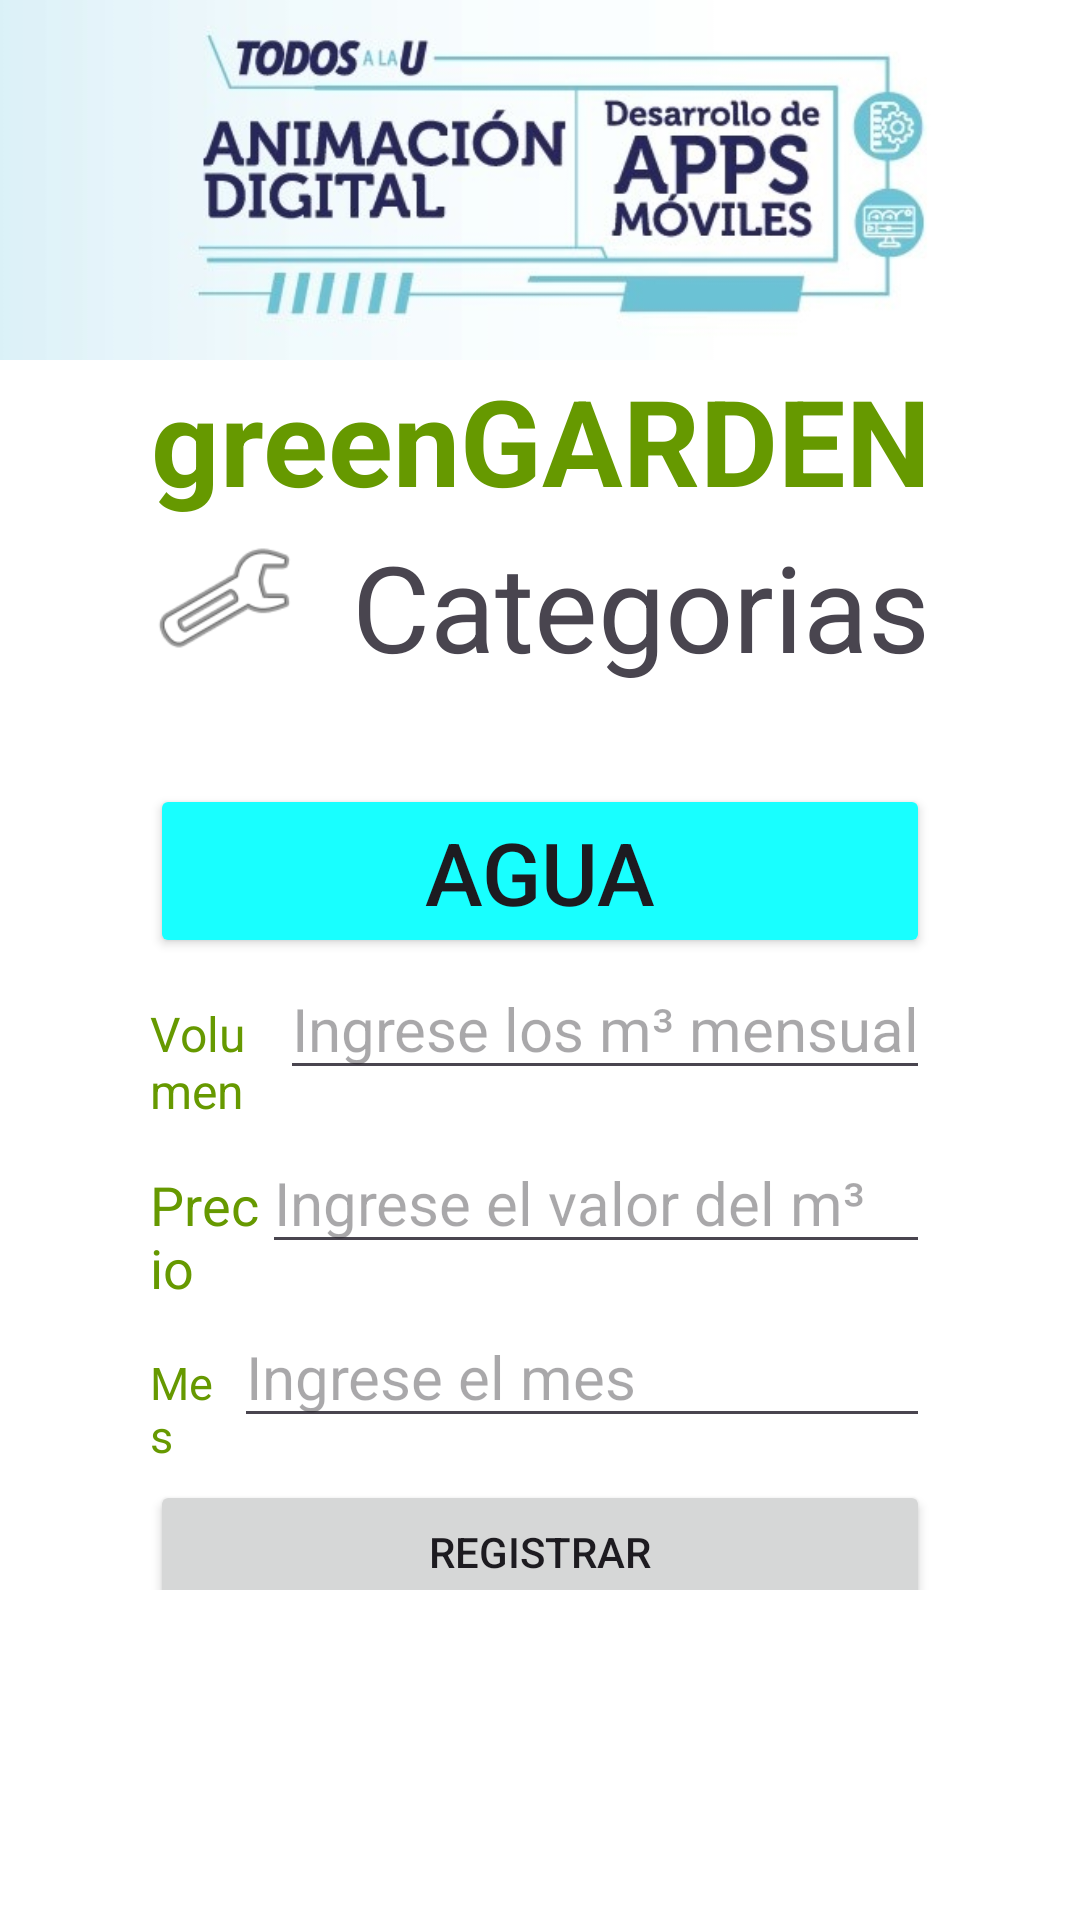

Where to tap for icons on this 1080w x 1920h app screen, as point (x, y):
manage: point (224, 598)
